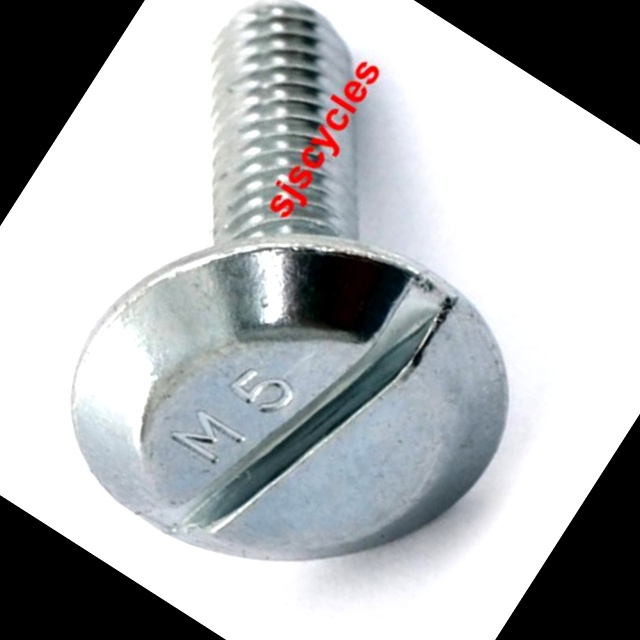duz: (17, 135, 560, 640)
